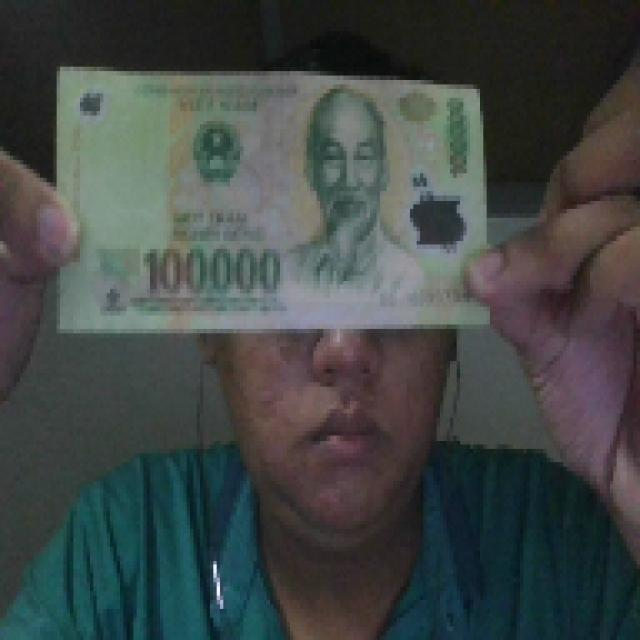100 000 VND: (50, 58, 497, 338)
